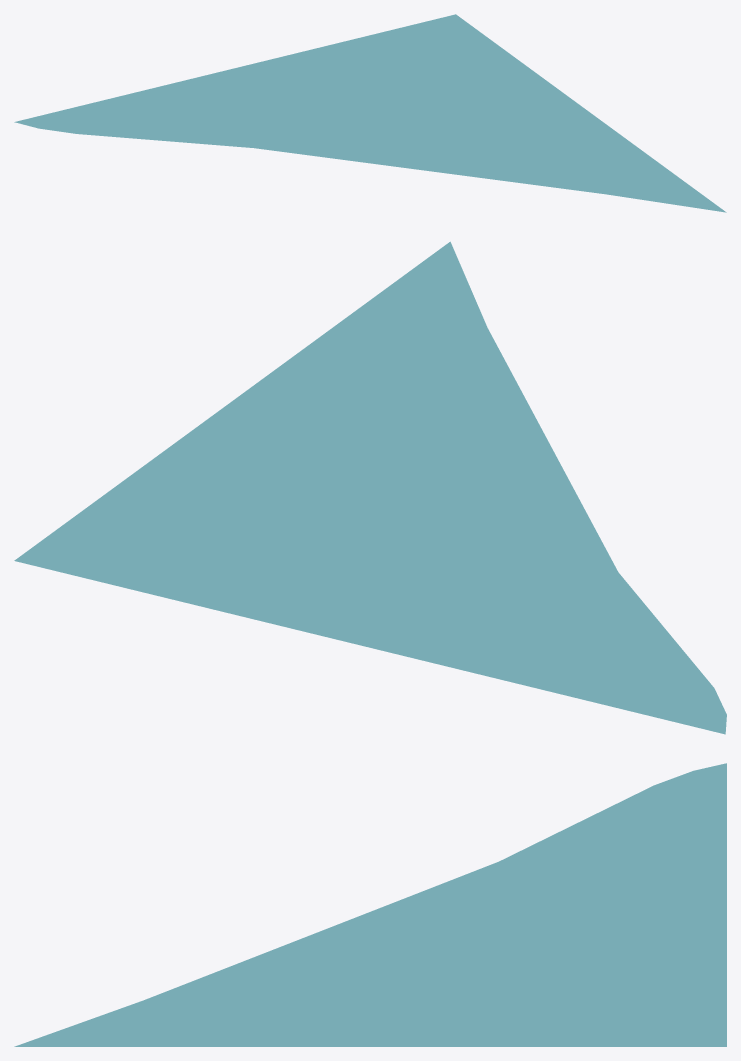
The picture shows the model from 3 angles, top to bottom: view 1: azimuth 30°, elevation 25°; view 2: azimuth 150°, elevation 25°; view 3: azimuth 270°, elevation 25°; orthographic projection. The views are drawn at different scales.
Visible parts, largest first — view 1: city; view 2: city; view 3: city.
Boxes of the visible parts, x1=… form: city: x1=14, y1=14, x2=726, y2=212; city: x1=14, y1=241, x2=726, y2=734; city: x1=14, y1=763, x2=726, y2=1046.
Bounding box in the file's own units: 118 × 0 × 125.
